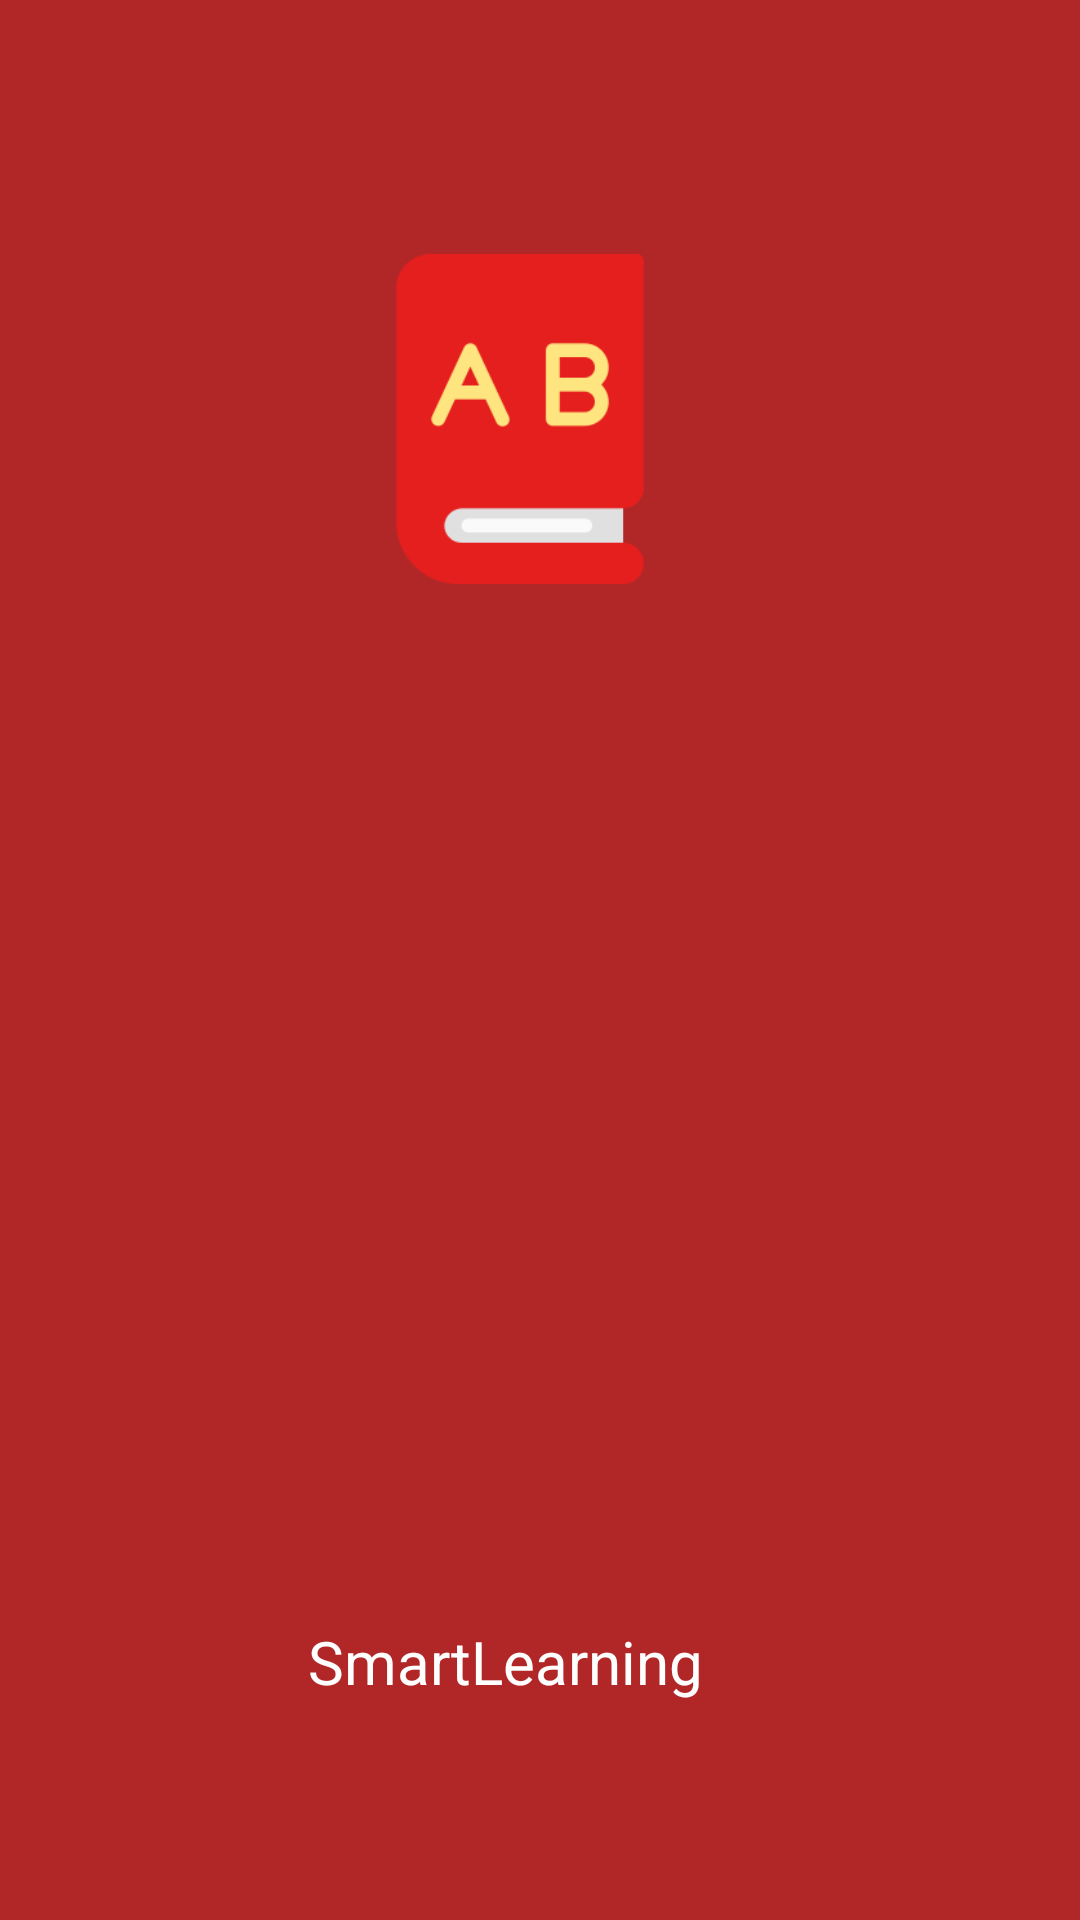

Screen size 1080*1920. Icon name, then its box in pixels as (x1=x1, y1=y1, x2=x2, y2=y2):
appiconnnnnnn: (x1=396, y1=254, x2=644, y2=584)
